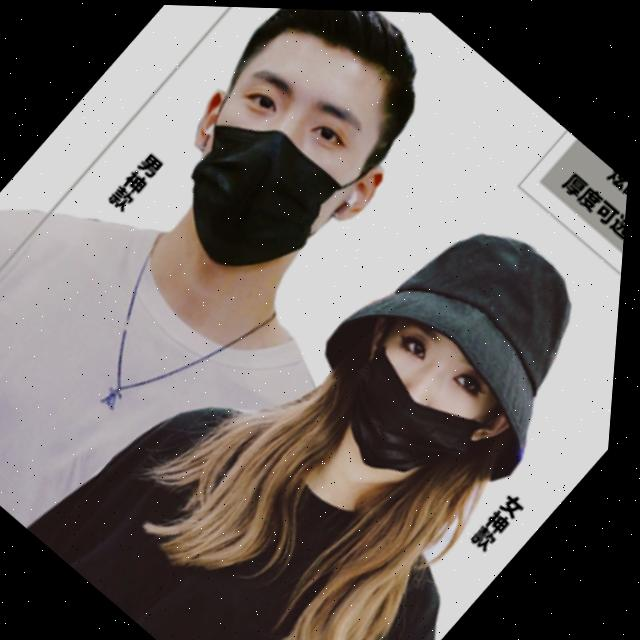Mask: (135, 53, 404, 310), (305, 316, 523, 520)
